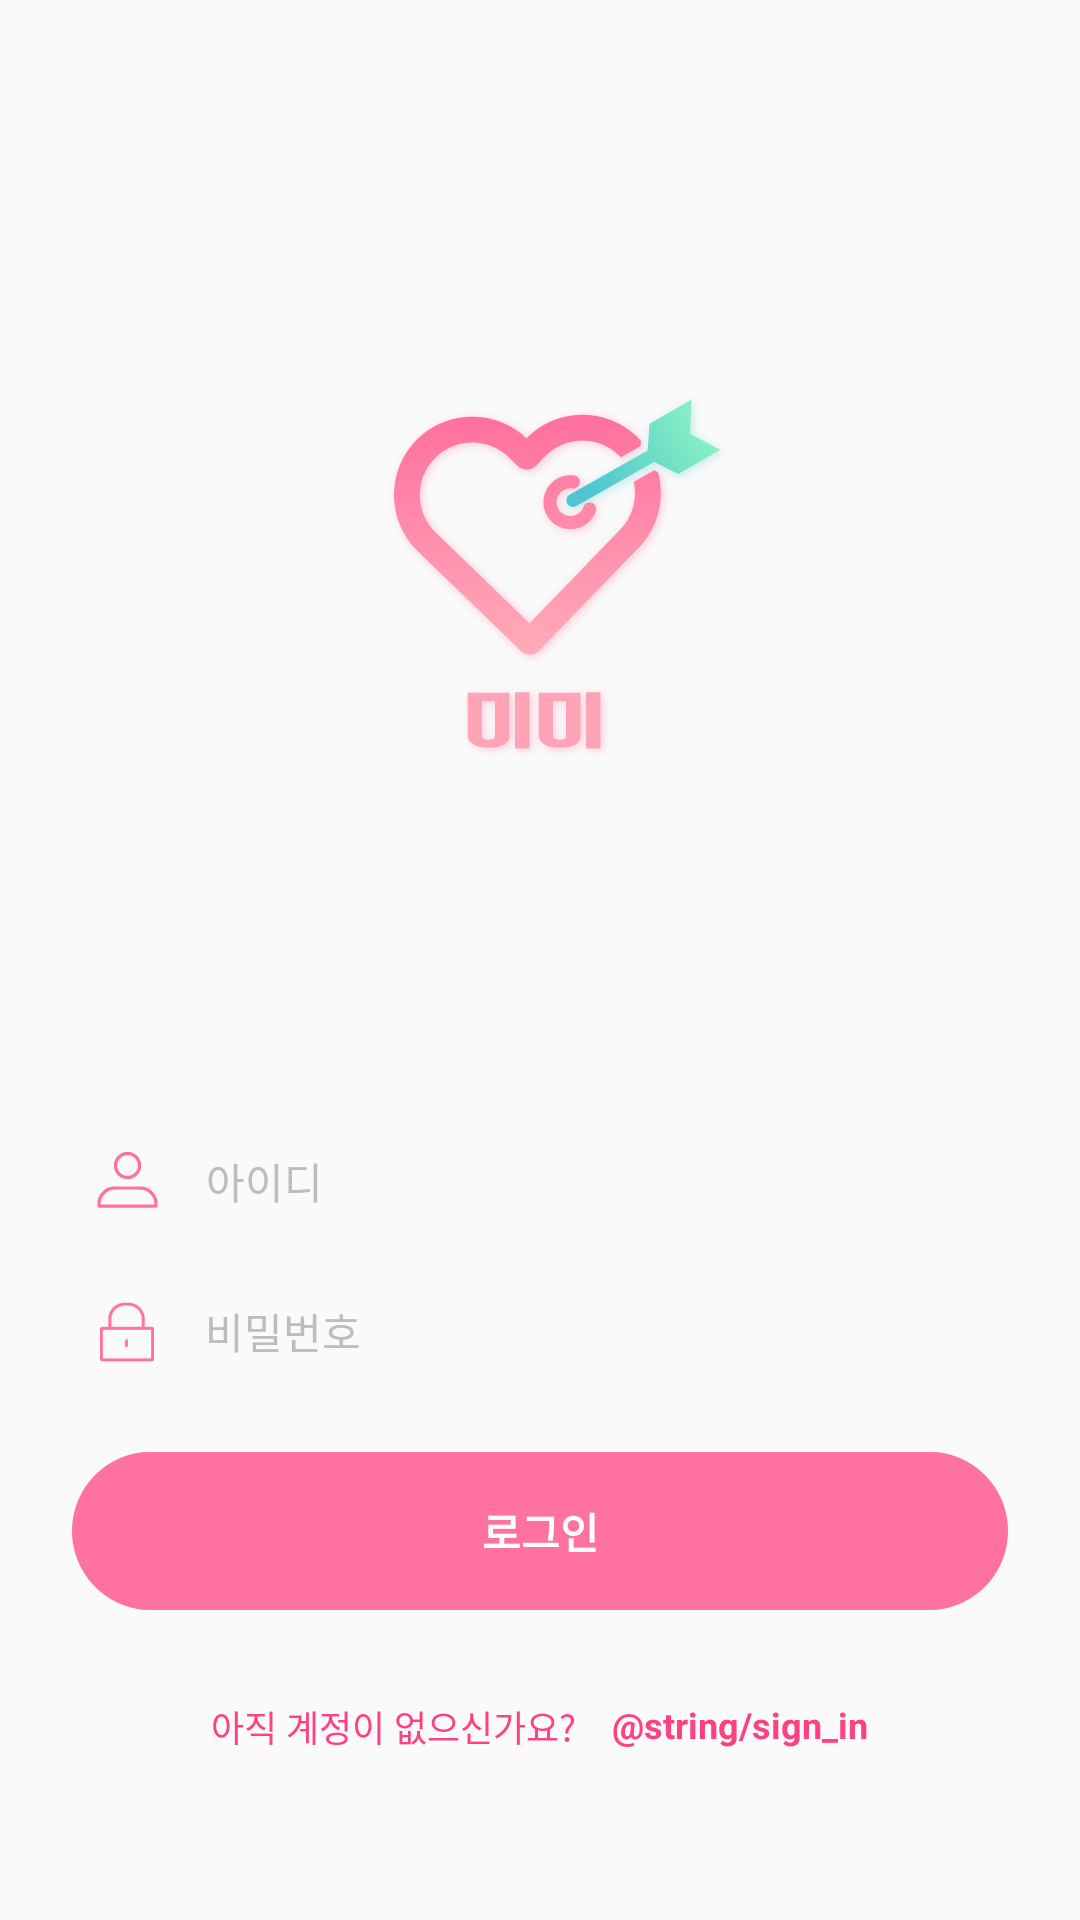

Icons on this 1080x1920 Android screen, each with its box as box=[x1, y1, x2, y2]:
login password: box=[100, 1302, 154, 1362]
login username: box=[97, 1152, 158, 1208]
